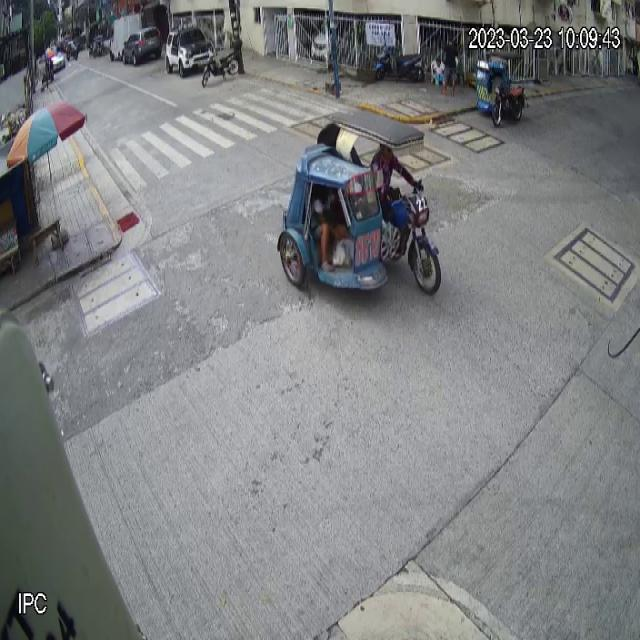Tricycle: (277, 111, 443, 297), (476, 50, 526, 125)
